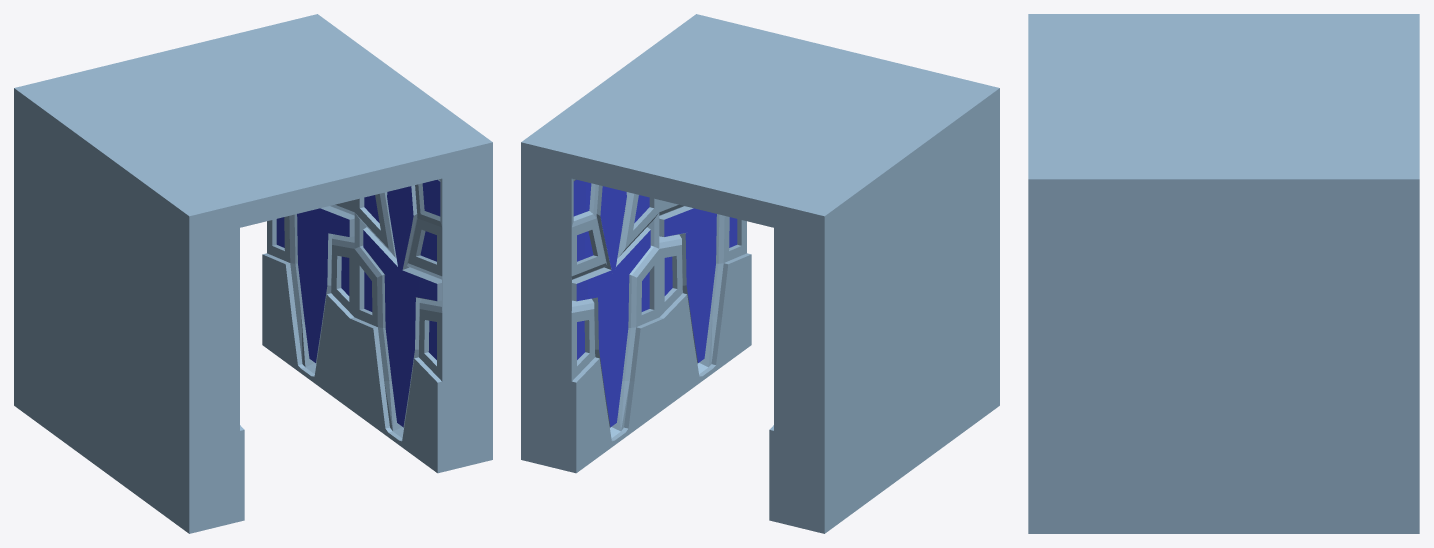
Rendered from EspacioRedSocialScroolTunelBajoNI.gltf.
3 views of the same model, side by side, from view 1: azimuth 30°, elevation 25°; view 2: azimuth 150°, elevation 25°; view 3: azimuth 270°, elevation 25° (orthographic). The views are drawn at different scales.
Visible parts, largest first — view 1: Cubo.31; view 2: Cubo.31; view 3: Cubo.31.
Part boxes in pixels (left/top/right/bottom): Cubo.31: left=14, top=14, right=492, bottom=533; Cubo.31: left=521, top=14, right=999, bottom=533; Cubo.31: left=1028, top=14, right=1419, bottom=533.
Bounding box in the file's own units: 2 × 2 × 2.
1 material, 1 textured.
